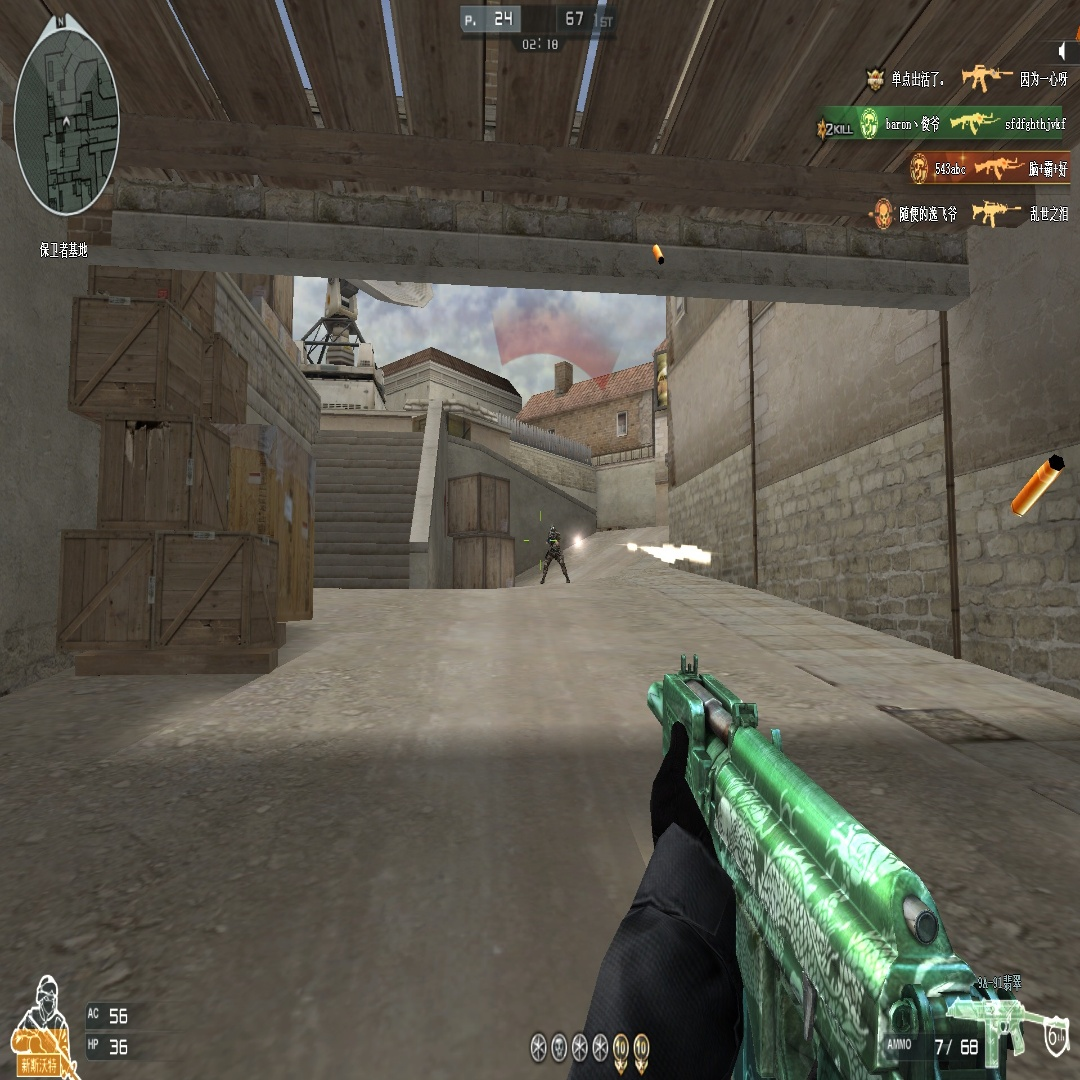p: (539, 526, 571, 587)
